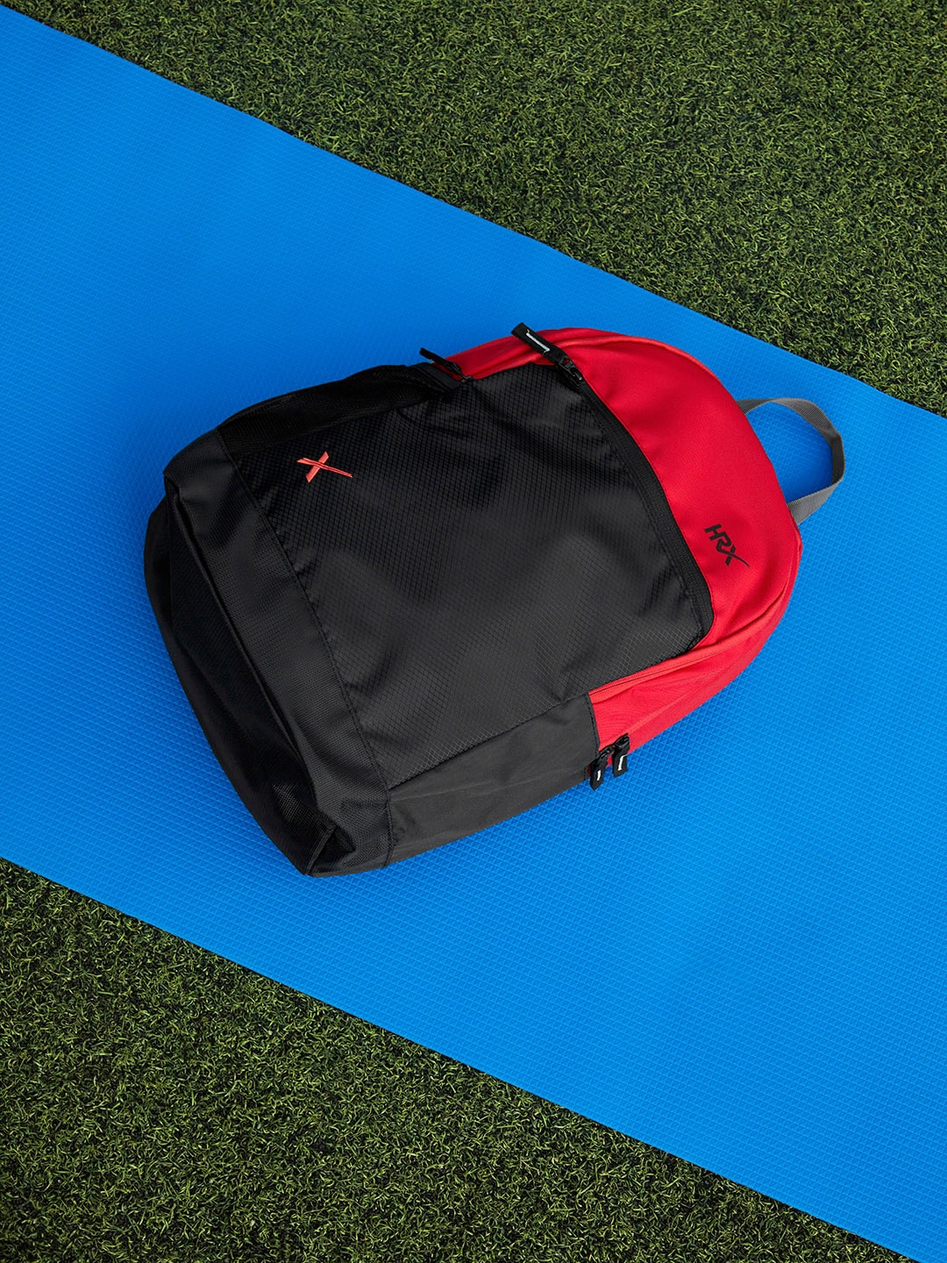backpack: (141, 321, 844, 877)
